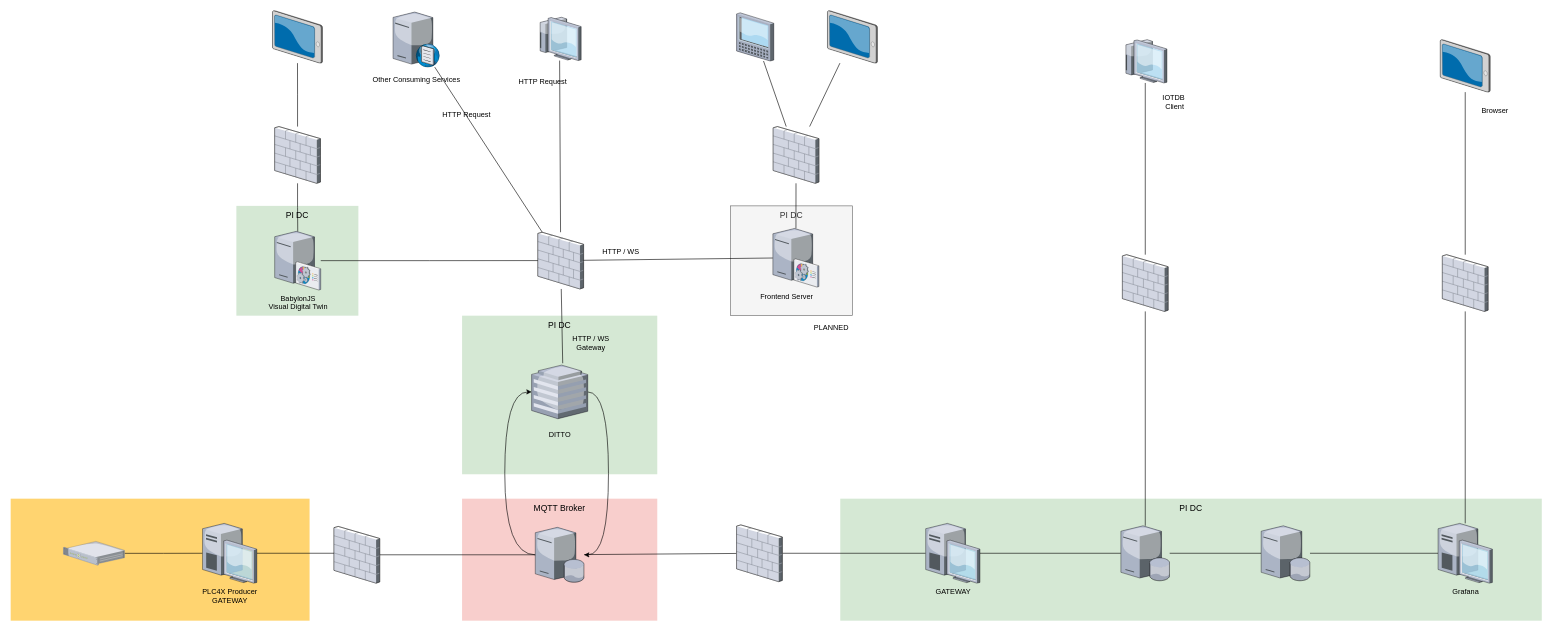
This 1552x631 diagram has some shape labels left out. Here are the shapes that lost their labels. From the top down, the box of each, then its label:
(63, 541, 124, 565): PLC
(10, 498, 309, 620): Shopfloor
(535, 527, 584, 582): MQTT
(1121, 526, 1169, 580): IOTDB Server
(1261, 526, 1310, 580): IOTDB-Grafana Bridge
